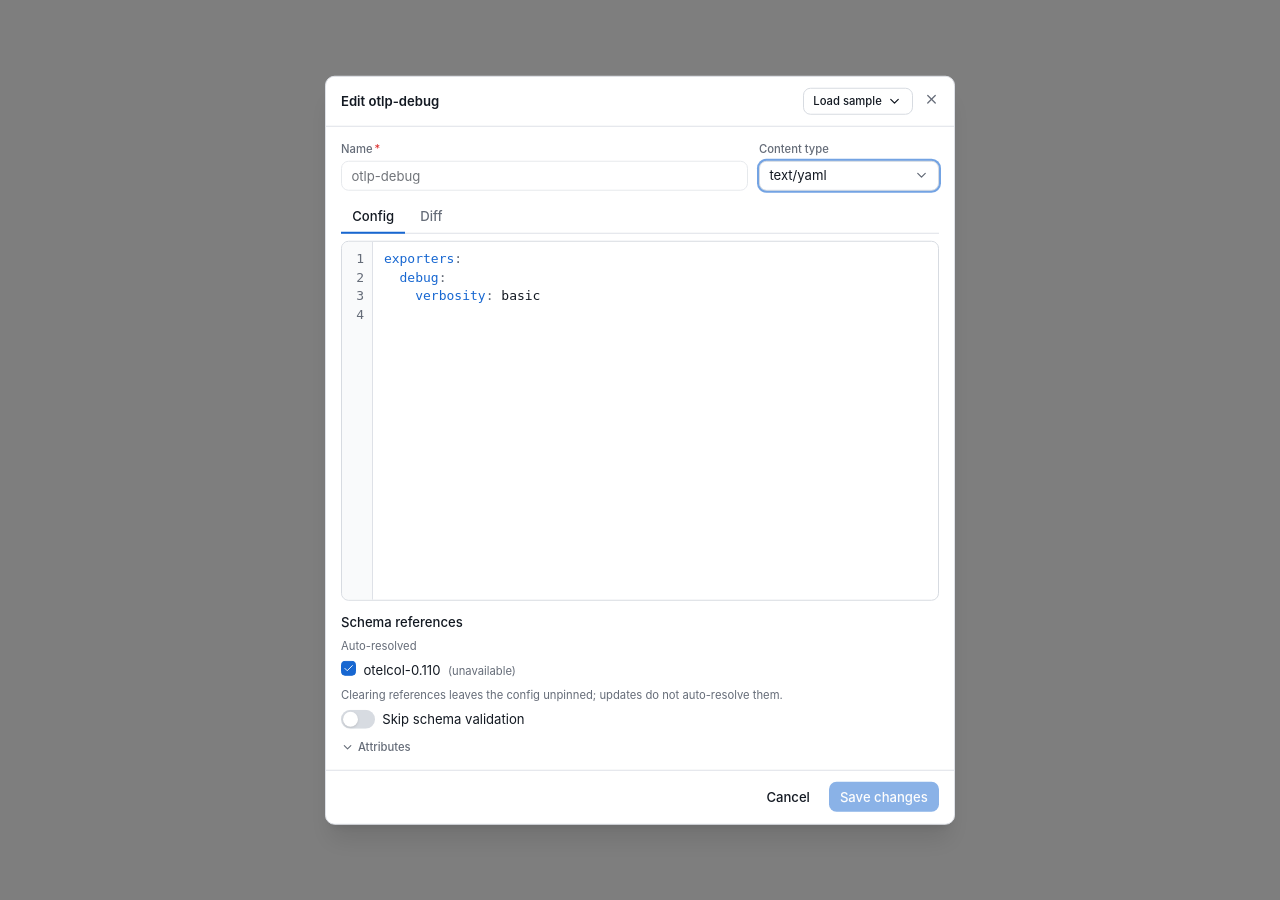
AgentRemoteConfigEditDialog › keeps Save disabled until something actually changes
This screenshot has width=1280, height=900.
Expected: the button "Save changes" is disabled, x1=829 y1=782 x2=939 y2=812
Step 1. Type "# touched" into the text box named "config body" → (655, 421), box x1=373 y1=242 x2=938 y2=600
Then press Enter
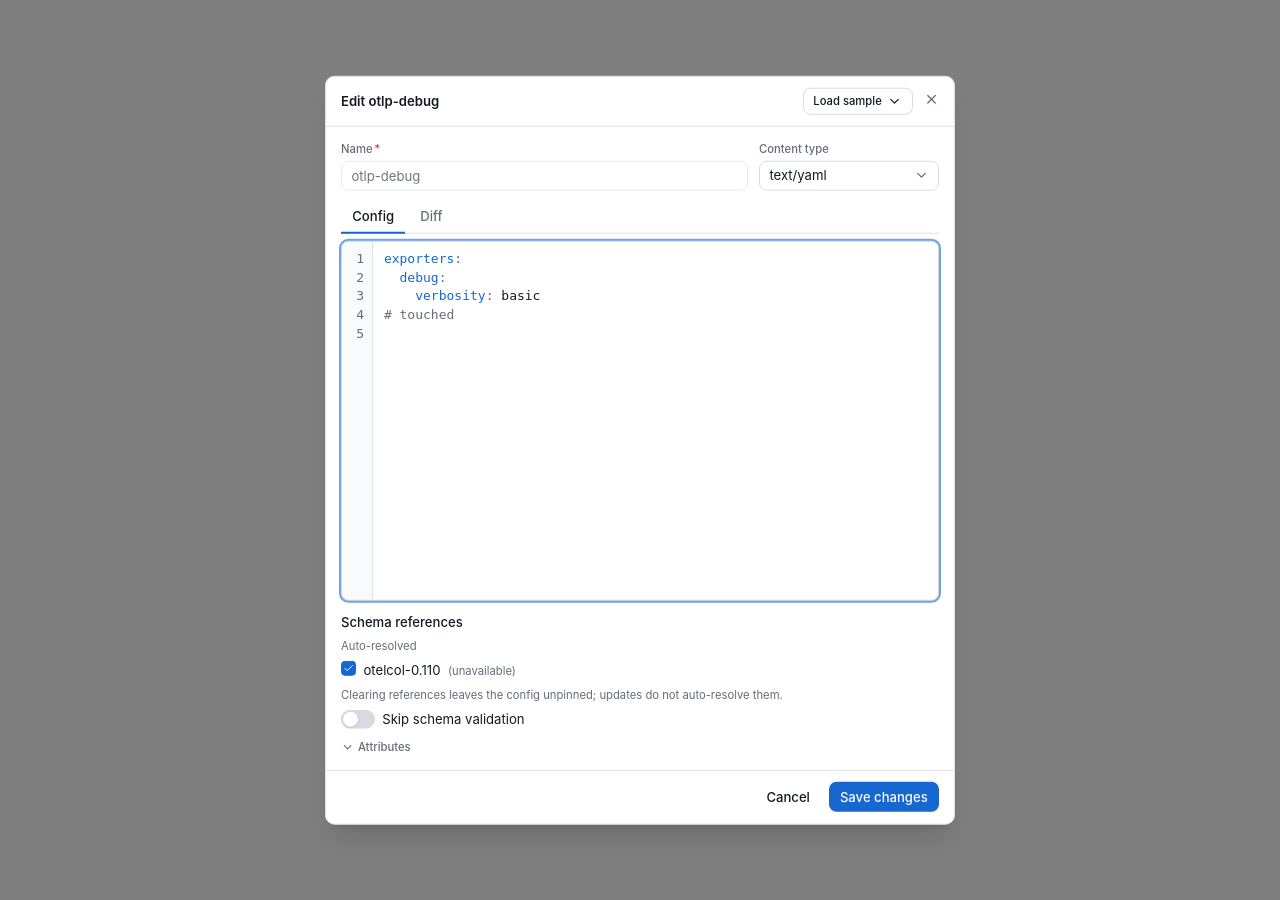
Expected: the button "Save changes" is enabled, x1=829 y1=782 x2=939 y2=812
